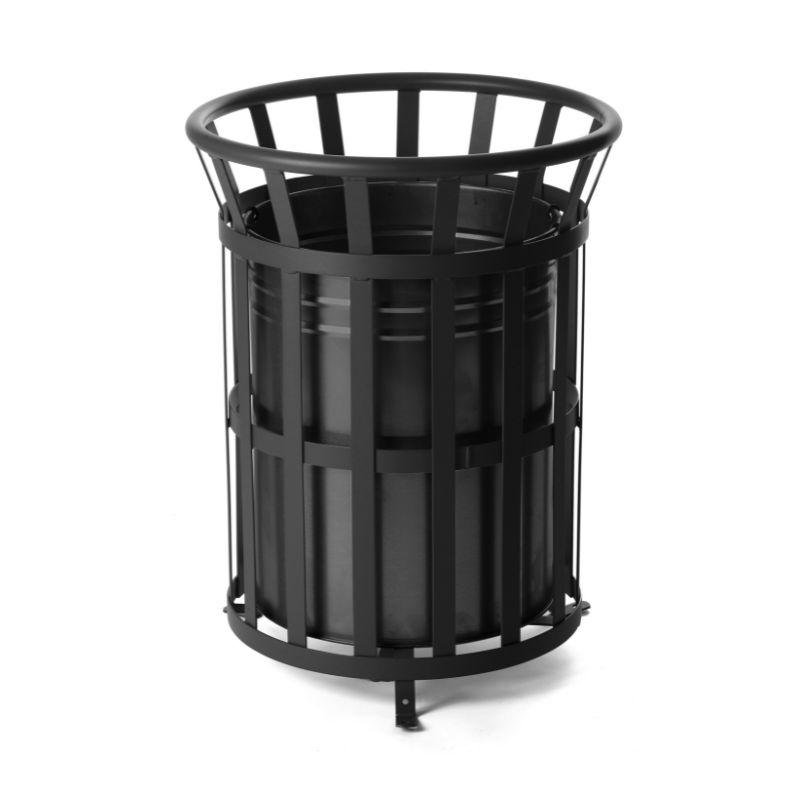trash bin: (176, 68, 628, 749)
